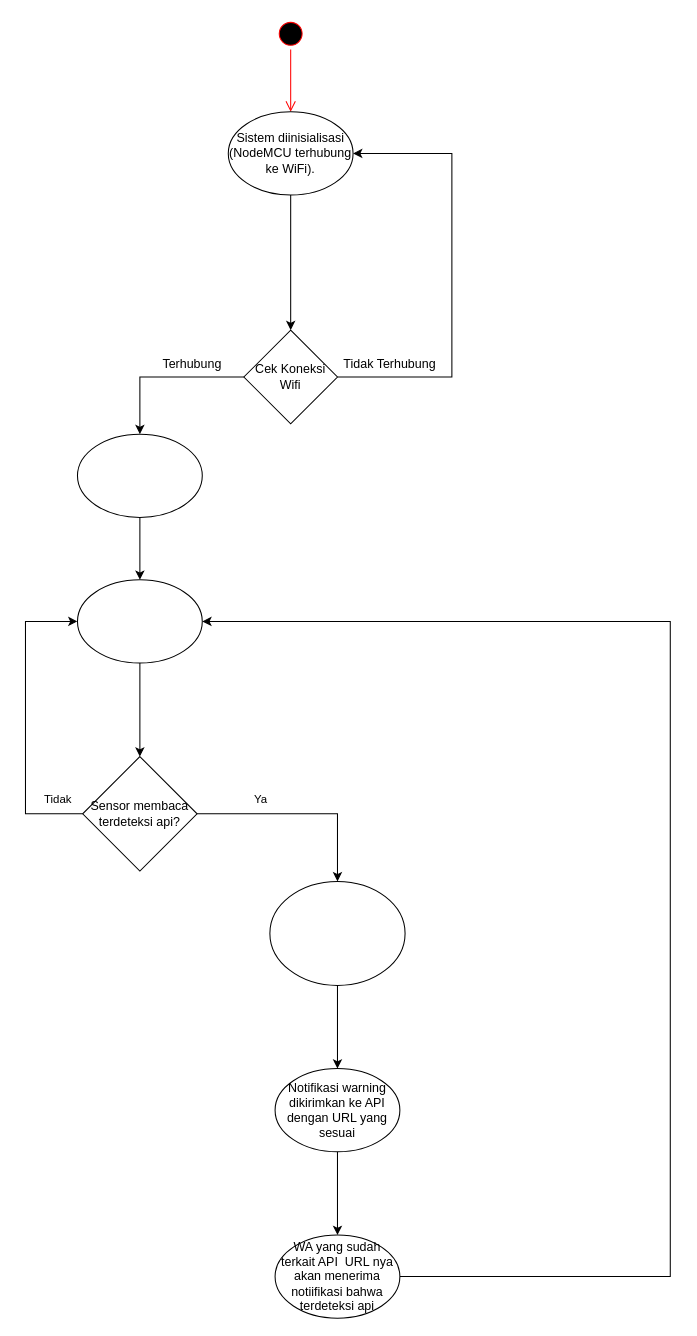
This 697x1336 diagram has some shape labels left out. The shapes that lost their labels are listed below. From the top down, each one's centre as x and y in pixels, then its label:
(139,475): Lampu LED menyala
(139,621): Flame sensor terus membaca data
(337,932): Buzzer berbunyi sebagai peringatan suara bahwa terdeteksi adanya api
